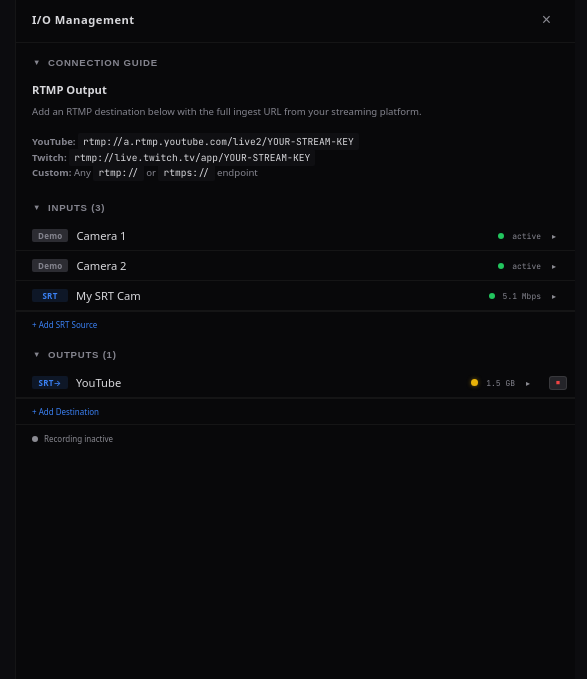
Test: IOPanel › shows RTMP option in destination type dropdown
Click the button with class "add-btn" showing "+ Add Destination".
click(66, 412)  # box [16,398,575,424]
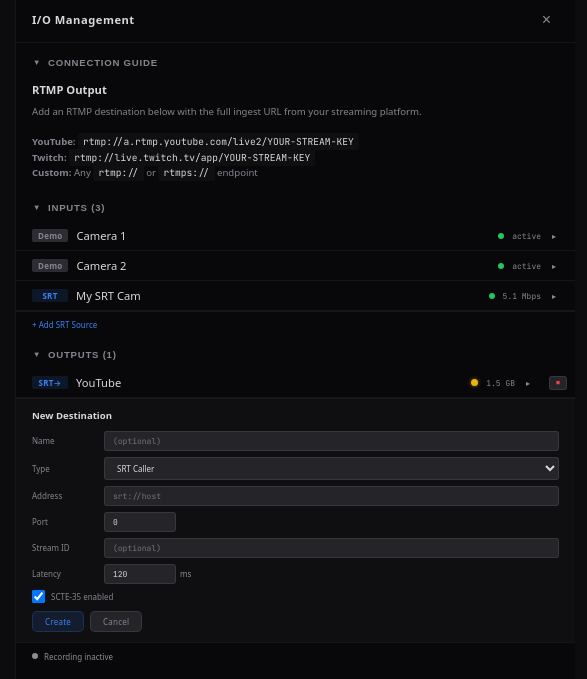
Result: the dropdown is shown at [104,457,559,480]
